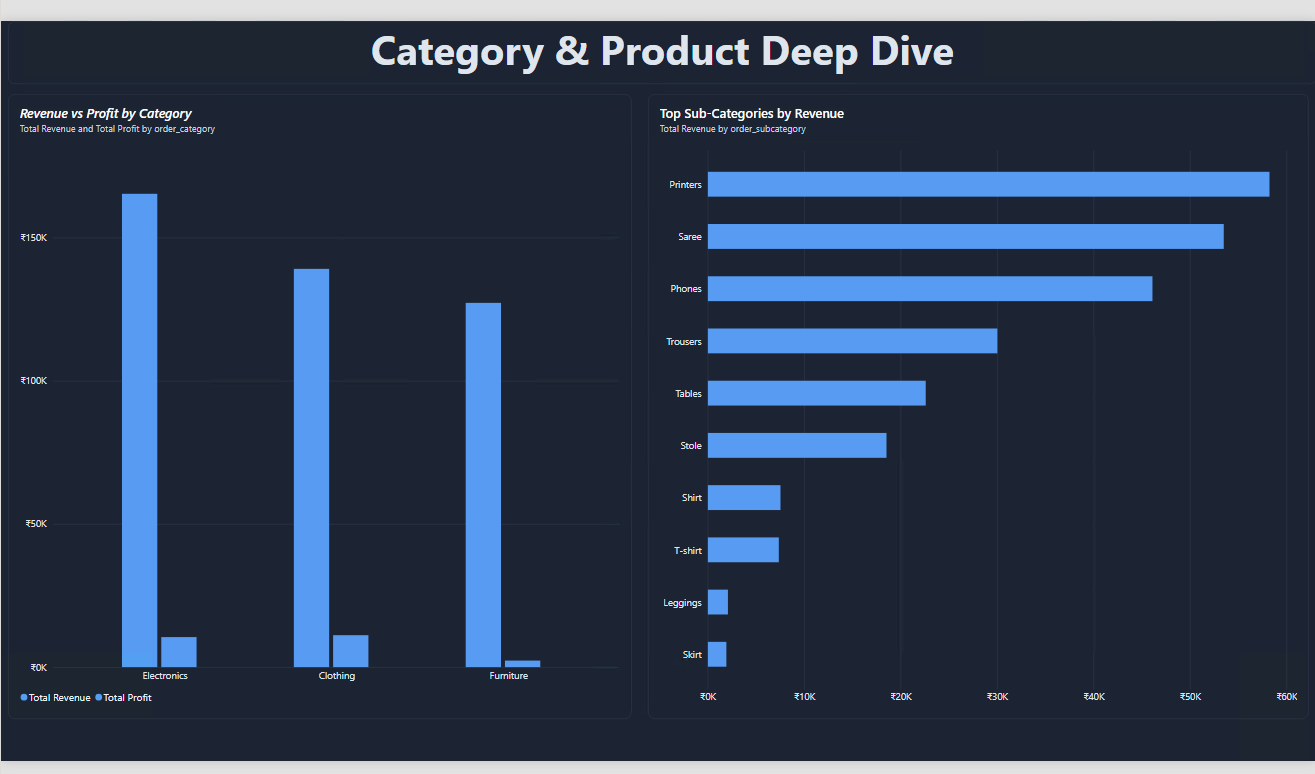

This screenshot's page, from the dashboard's own definition file:
{"tool":"powerbi","page":{"name":"Category Deep Dive","canvas":[1920,1080],"ordinal":2},"visuals":[{"type":"textbox","box":[10.2,0,1909.8,91.9],"z":0},{"type":"clusteredColumnChart","title":"Revenue vs Profit by Category","fields":{"Category":["order_details.order_category"],"Y":["Sum(order_details.order_amount)","Sum(order_details.order_profit)"]},"box":[10.2,106.5,910.4,911.9],"z":1},{"type":"barChart","title":"Top Sub-Categories by Revenue","fields":{"Category":["order_details.order_subcategory"],"Y":["Sum(order_details.order_amount)"]},"box":[944,106.5,964.4,911.9],"z":2}]}

Visuals, with their boxes on the page's 1920x1080 design canvas (x1, y1, x2, y2). These are canvas units, not pixel positions in the 1315x774 screenshot, which may show the page scaled, cropped or inside an application window:
textbox: BBox(10, 0, 1920, 92)
"Revenue vs Profit by Category" clusteredColumnChart: BBox(10, 106, 921, 1018)
"Top Sub-Categories by Revenue" barChart: BBox(944, 106, 1908, 1018)
